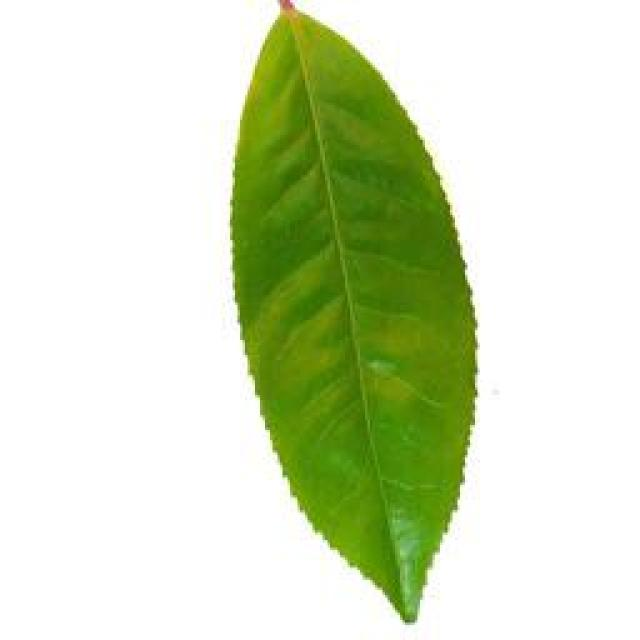Healthy: (206, 1, 516, 630)
